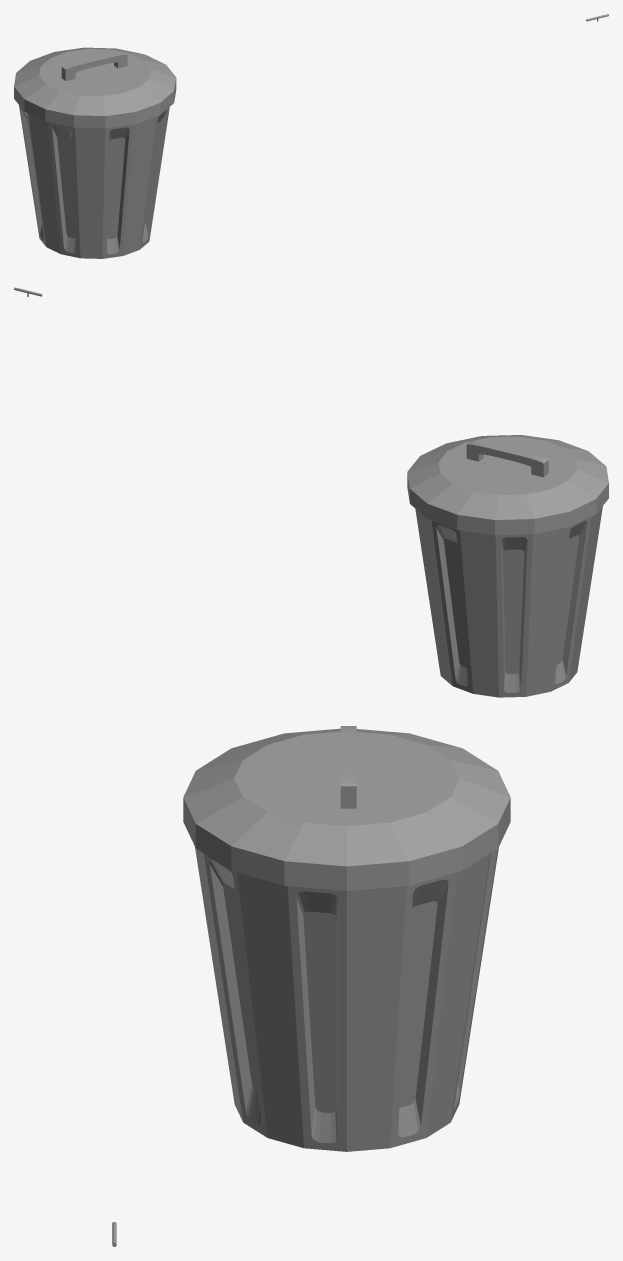
Rendered from buildig.001_metal_(scratched)_0.001_lev3.glb.
3 renders of one model, top to bottom at view 1: azimuth 30°, elevation 25°; view 2: azimuth 150°, elevation 25°; view 3: azimuth 270°, elevation 25°, orthographic. The views are drawn at different scales.
Visible parts, largest first — view 1: buildig.001_metal_(scratched)_0.001_lev3; view 2: buildig.001_metal_(scratched)_0.001_lev3; view 3: buildig.001_metal_(scratched)_0.001_lev3.
Boxes of the visible parts, bbox=[...] form: buildig.001_metal_(scratched)_0.001_lev3: bbox=[14, 14, 608, 258]; buildig.001_metal_(scratched)_0.001_lev3: bbox=[14, 287, 608, 697]; buildig.001_metal_(scratched)_0.001_lev3: bbox=[112, 726, 510, 1246].
Size of the model in its own units: 1.18 by 0.3776 by 0.3881.
1 material, 1 textured.
